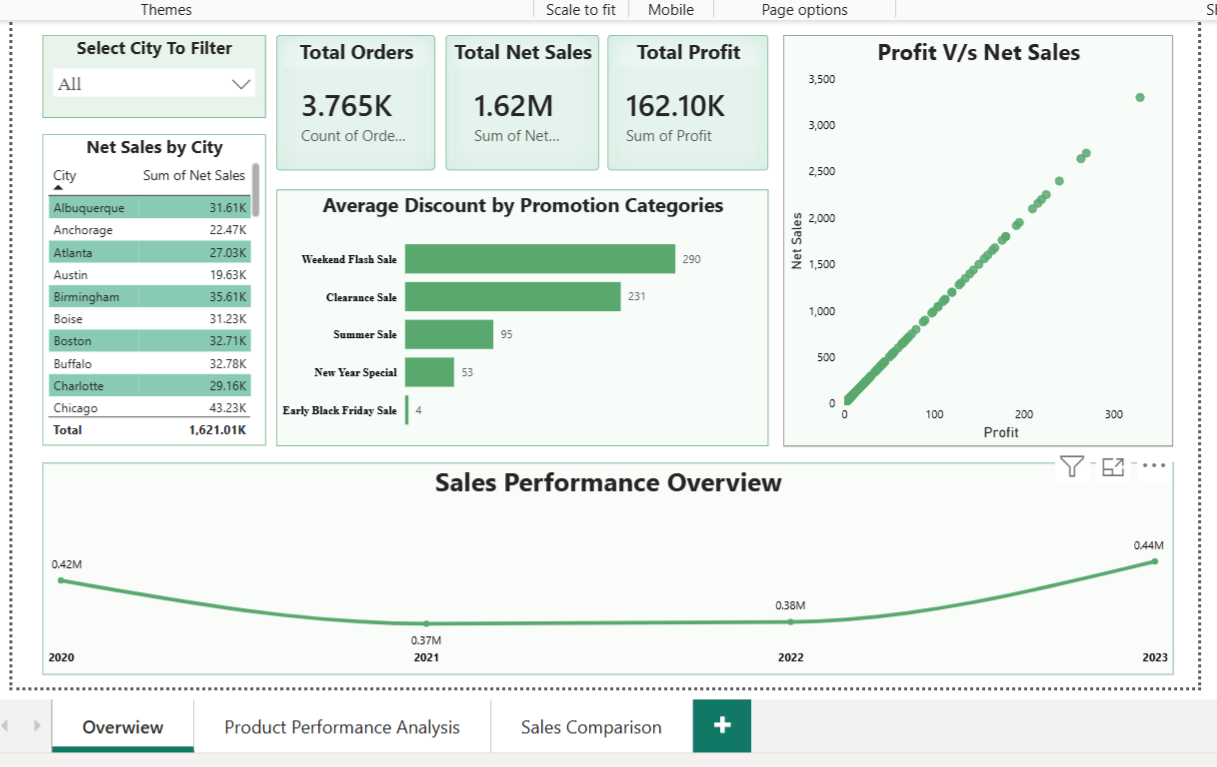

What the dashboard file says about the page in this screenshot:
{"tool":"powerbi","page":{"name":"Overwiew","canvas":[1280,720],"ordinal":0},"visuals":[{"type":"lineChart","title":"Sales Performance Overview","fields":{"Y":["Sum(Fact Table.Net Sales )"],"Category":["Date Table 1.Date.Variation.Date Hierarchy.Year","Date Table 1.Date.Variation.Date Hierarchy.Quarter","Date Table 1.Date.Variation.Date Hierarchy.Month","Date Table 1.Date.Variation.Date Hierarchy.Day"]},"box":[32.4,478,1221.3,228.9],"z":0},{"type":"scatterChart","title":"Profit V/s Net Sales ","fields":{"X":["Fact Table.Profit"],"Y":["Fact Table.Net Sales "]},"box":[832.3,16.2,421,443.7],"z":1000},{"type":"barChart","title":"Average Discount by Promotion Categories","fields":{"Y":["Avg(Fact Table.Discount )"],"Category":["Dim Promotion.Promotion Name"]},"box":[285,183,531.1,276.9],"z":2000},{"type":"tableEx","title":"Net Sales by City","fields":{"Values":["Dim Customers.City","Sum(Fact Table.Net Sales )"]},"box":[32.4,123.5,241,336.2],"z":3000},{"type":"cardVisual","title":"Total Orders","fields":{"Data":["Count(Fact Table.Order ID)"]},"box":[285,16.2,171.6,145.7],"z":4000},{"type":"cardVisual","title":"Total Net Sales","fields":{"Data":["Sum(Fact Table.Net Sales )"]},"box":[468,16.2,165.2,145.7],"z":5000},{"type":"slicer","title":"Select City To Filter","fields":{"Values":["Dim Customers.City"]},"box":[32.4,16.2,241,89.1],"z":6000},{"type":"cardVisual","title":"Total Profit","fields":{"Data":["Sum(Fact Table.Profit)"]},"box":[642.8,16.2,173.3,145.7],"z":7000}]}

Visuals, with their boxes on the page's 1280x720 design canvas (x1, y1, x2, y2). These are canvas units, not pixel positions in the 1217x767 screenshot, which may show the page scaled, cropped or inside an application window:
"Sales Performance Overview" lineChart: 32,478,1254,707
"Profit V/s Net Sales " scatterChart: 832,16,1253,460
"Average Discount by Promotion Categories" barChart: 285,183,816,460
"Net Sales by City" tableEx: 32,124,273,460
"Total Orders" cardVisual: 285,16,457,162
"Total Net Sales" cardVisual: 468,16,633,162
"Select City To Filter" slicer: 32,16,273,105
"Total Profit" cardVisual: 643,16,816,162
